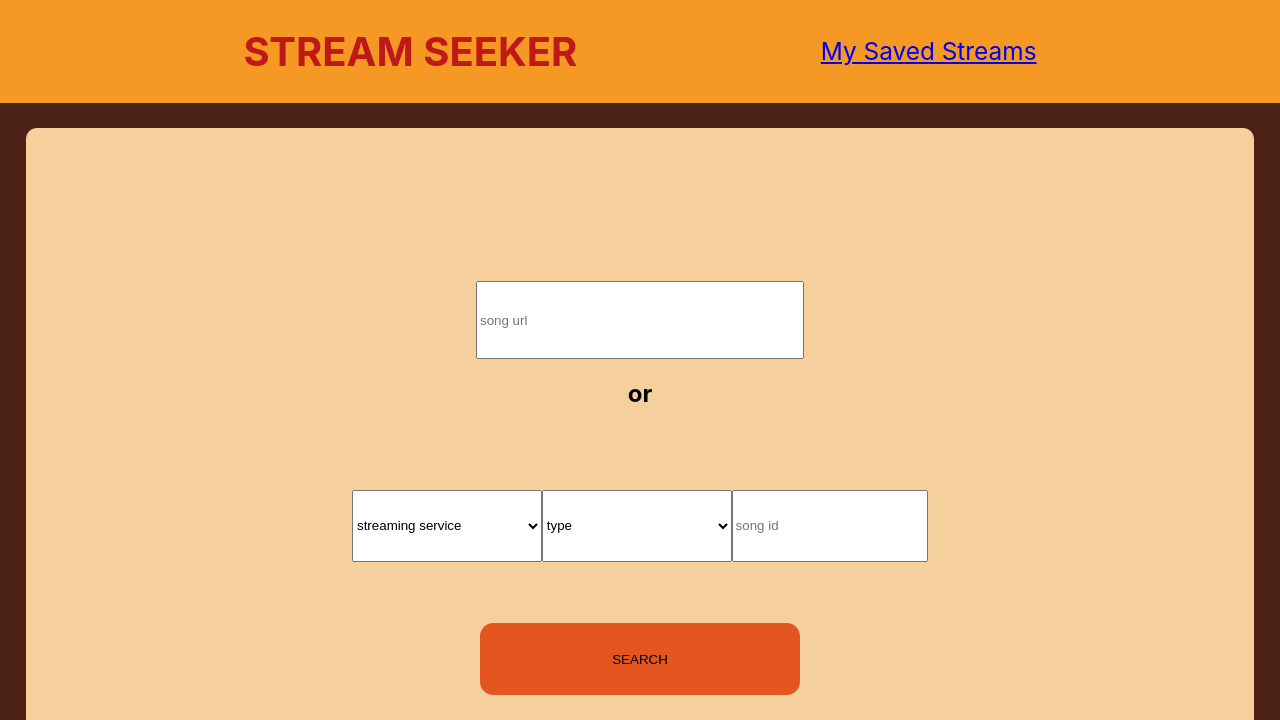
Test: error handling › Displays an error message for a bad request
In the field with class "url-input": [640, 320] box [476,281,804,359], type "https://open.spotify.com/track/6OpU3cvY19M2hFxTbLKy5L?si=c5d6a02b04bb4d97"
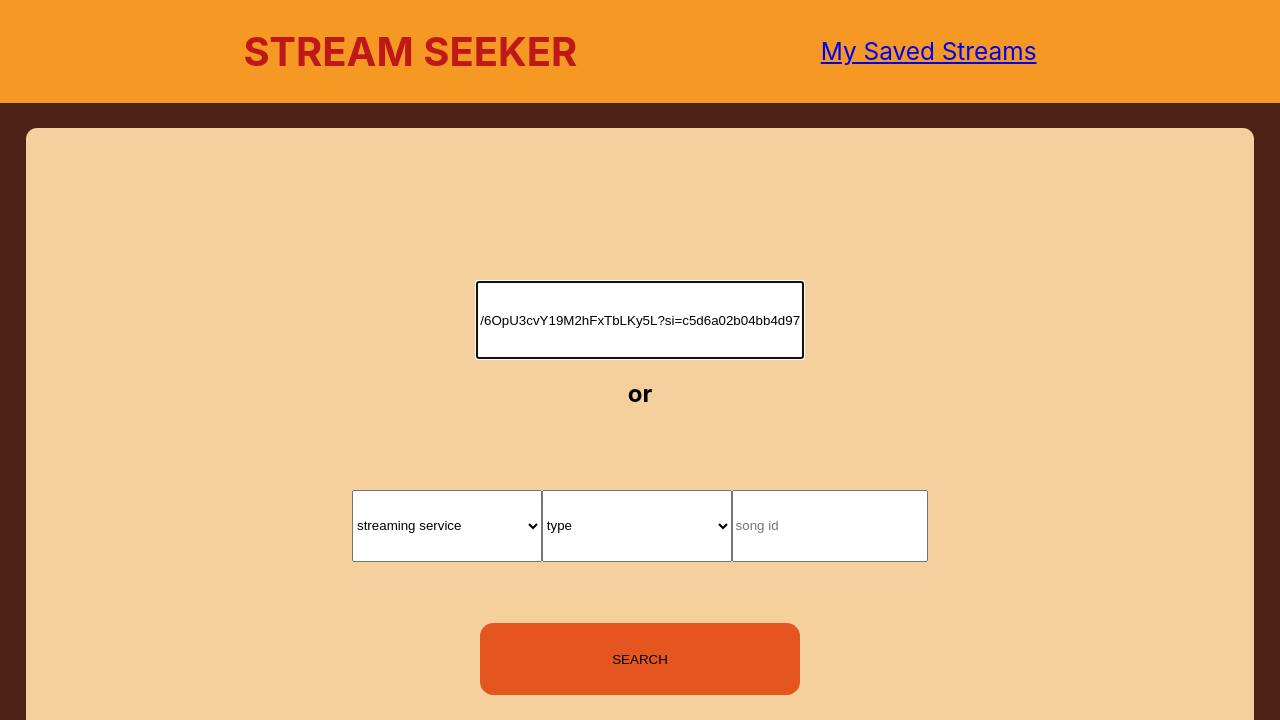
Click the button "SEARCH": [640, 659] box [480,623,800,695]
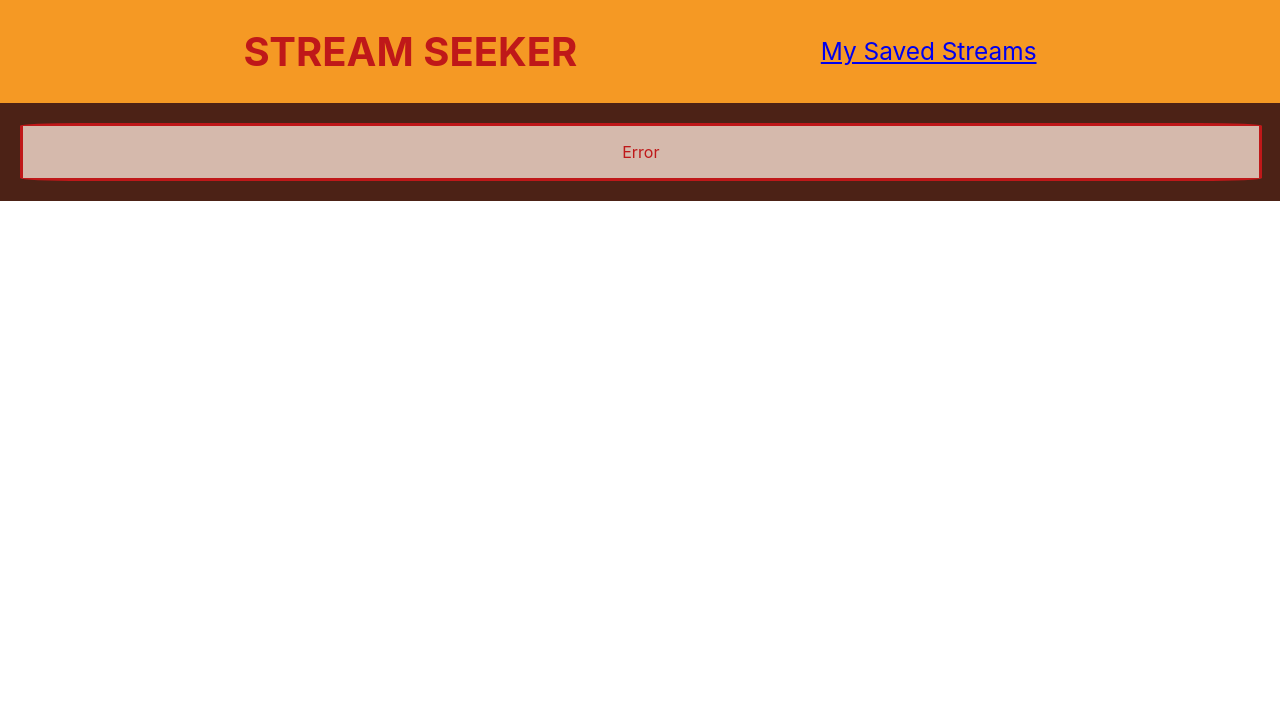
Check: the text with class "results-container" reads "Error", box [622,142,659,162]
